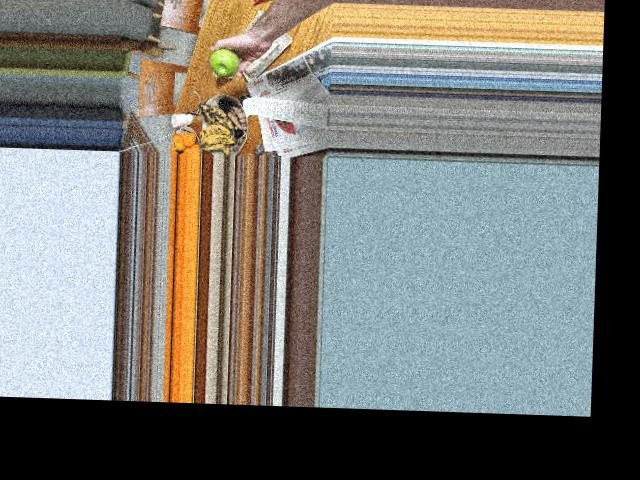apple: (208, 48, 241, 76)
